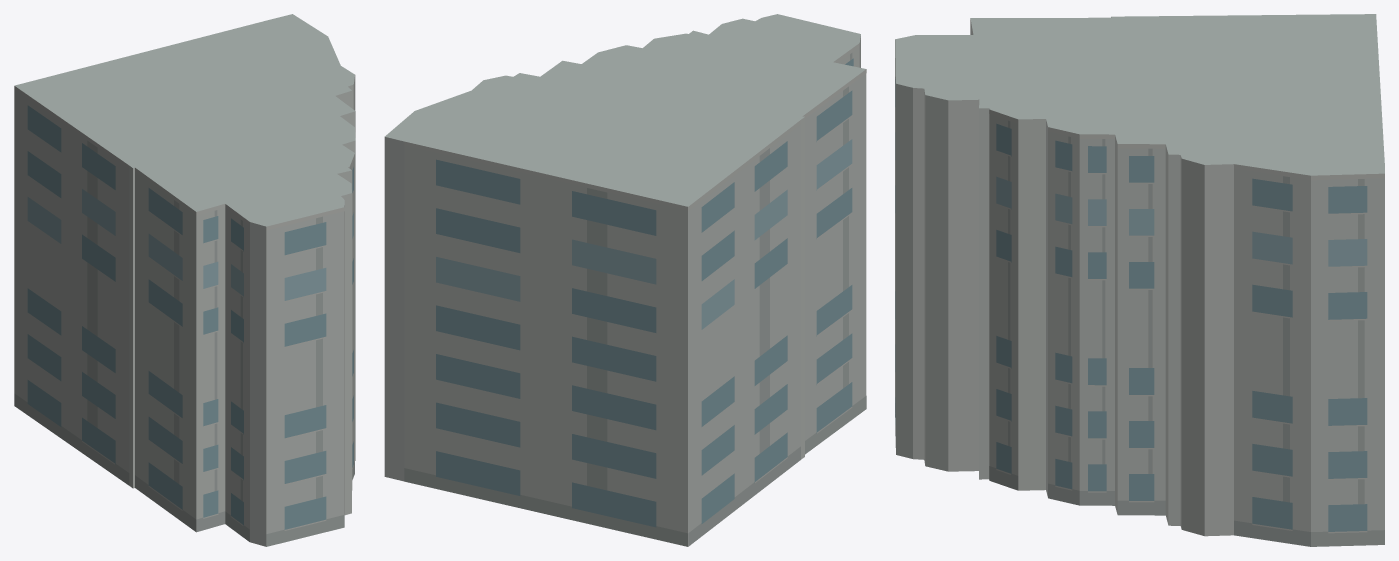
Rendered from survey-upis-32770287.glb.
3 renders of one model, left to right at view 1: azimuth 30°, elevation 25°; view 2: azimuth 150°, elevation 25°; view 3: azimuth 270°, elevation 25°, orthographic. The views are drawn at different scales.
Parts seen in each view (by area): view 1: survey-upis-32770287.tmp; view 2: survey-upis-32770287.tmp; view 3: survey-upis-32770287.tmp.
Boxes of the visible parts, left/top/right/bottom form: survey-upis-32770287.tmp: left=14, top=14, right=355, bottom=546; survey-upis-32770287.tmp: left=384, top=14, right=866, bottom=546; survey-upis-32770287.tmp: left=895, top=14, right=1384, bottom=546.
Bounding box in the file's own units: 18.12 × 19.4 × 23.2.
